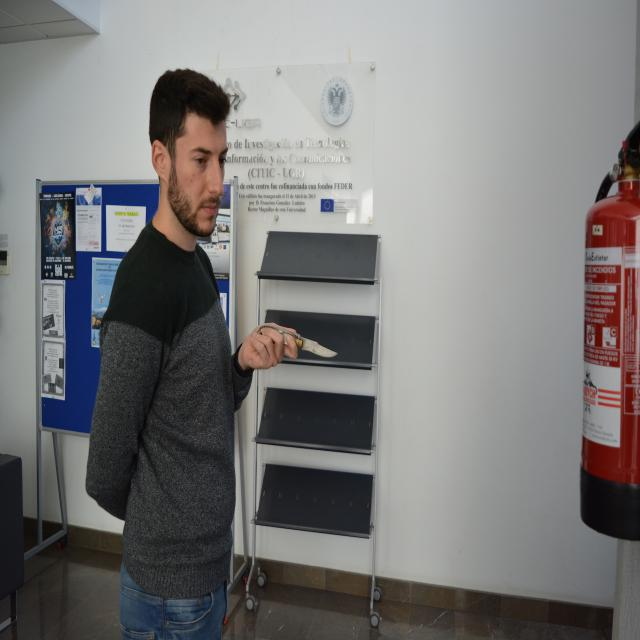knife: (296, 332, 341, 363)
